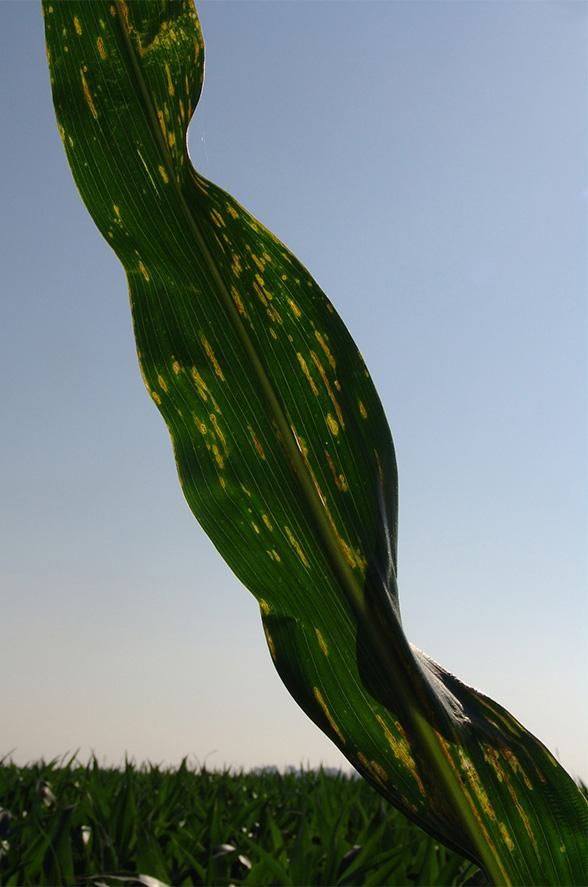Corn leaf blight: (42, 2, 581, 876)
